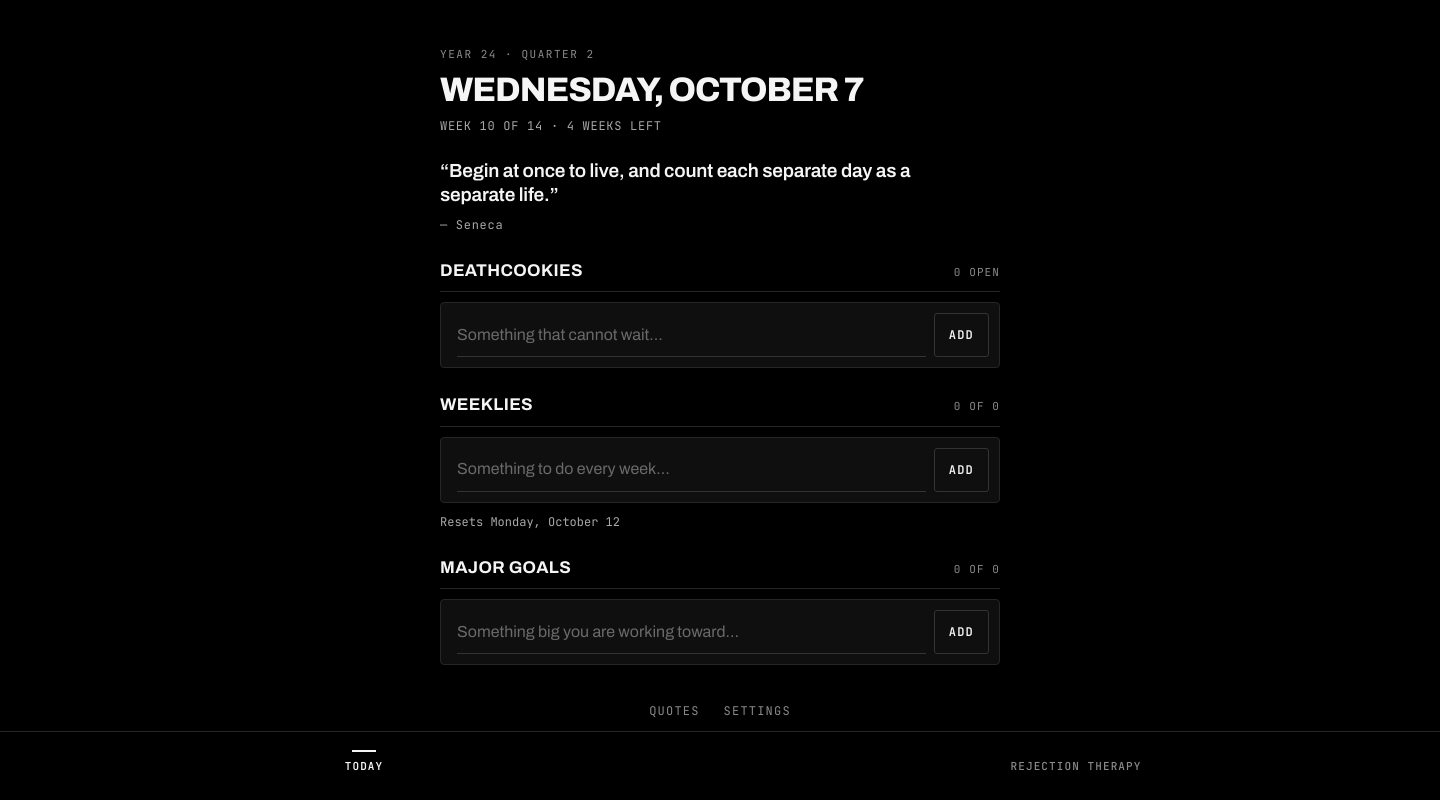
Test: rejection therapy › opens from the tab bar and fills in cards one at a time
Click the tab "Rejection Therapy": (1076, 762) [720,738,1432,786]
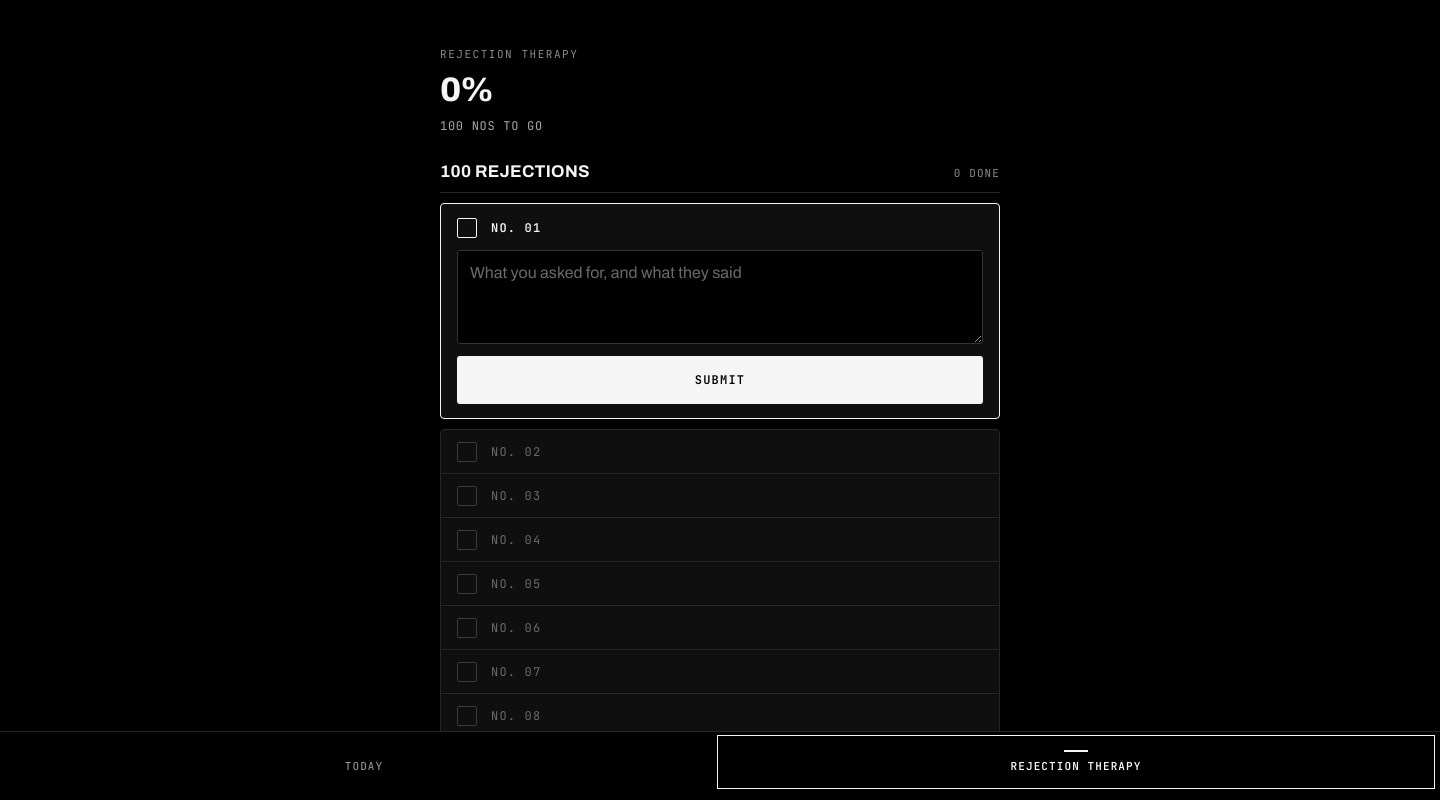
Expected: the heading "0%" is shown, [440,70,493,108]
Expected: the text "100 nos to go" is shown, [440,118,543,134]
Expected: the form named "Card No. 01" is shown, [440,203,1000,419]
Click the button "Submit": (720, 380) [457,356,983,404]
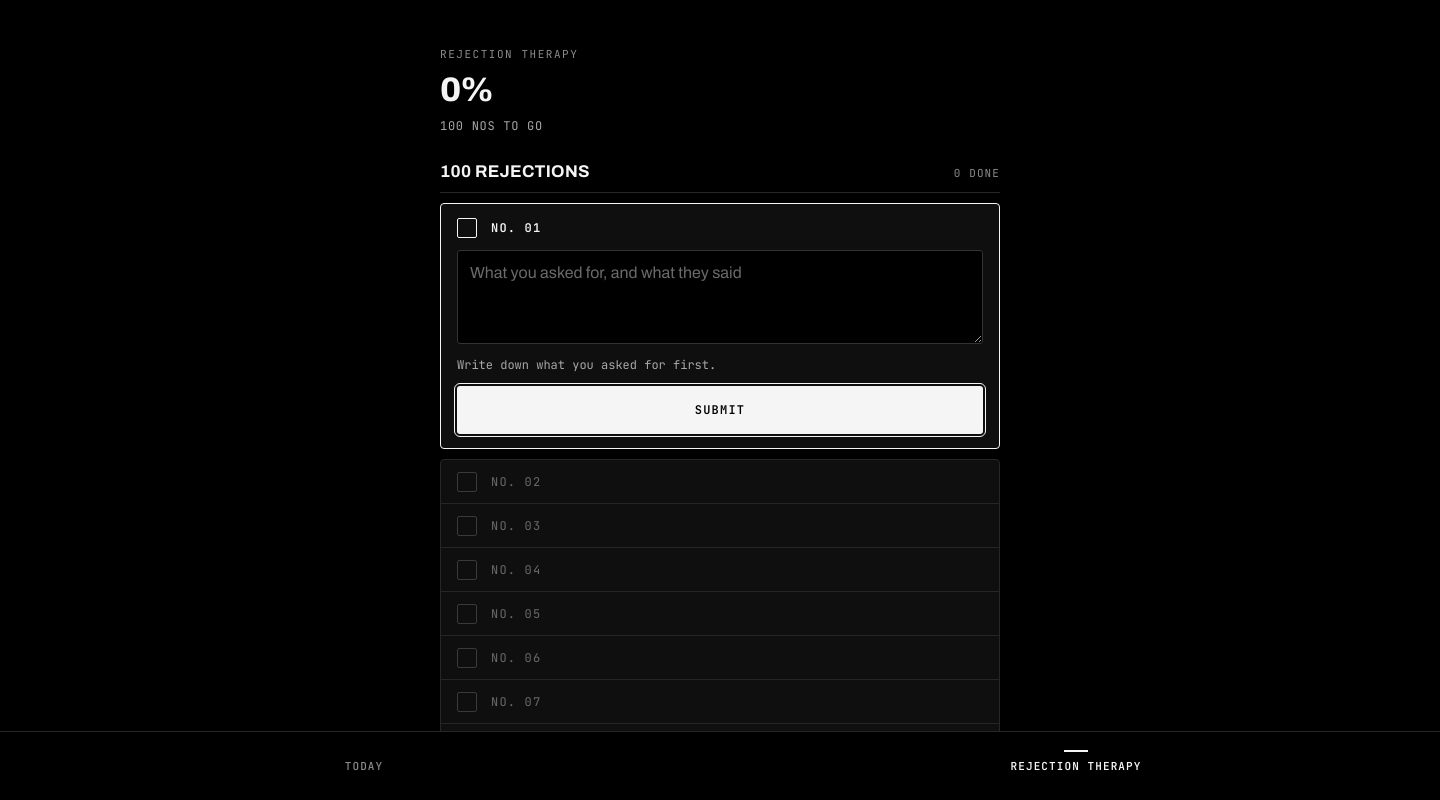
Expected: the message reads "Write down what you asked for first.", [457,357,716,373]
In the text box named "What happened for No. 01": (720, 297) [457,250,983,344], type "Asked for a free refill. A polite no."
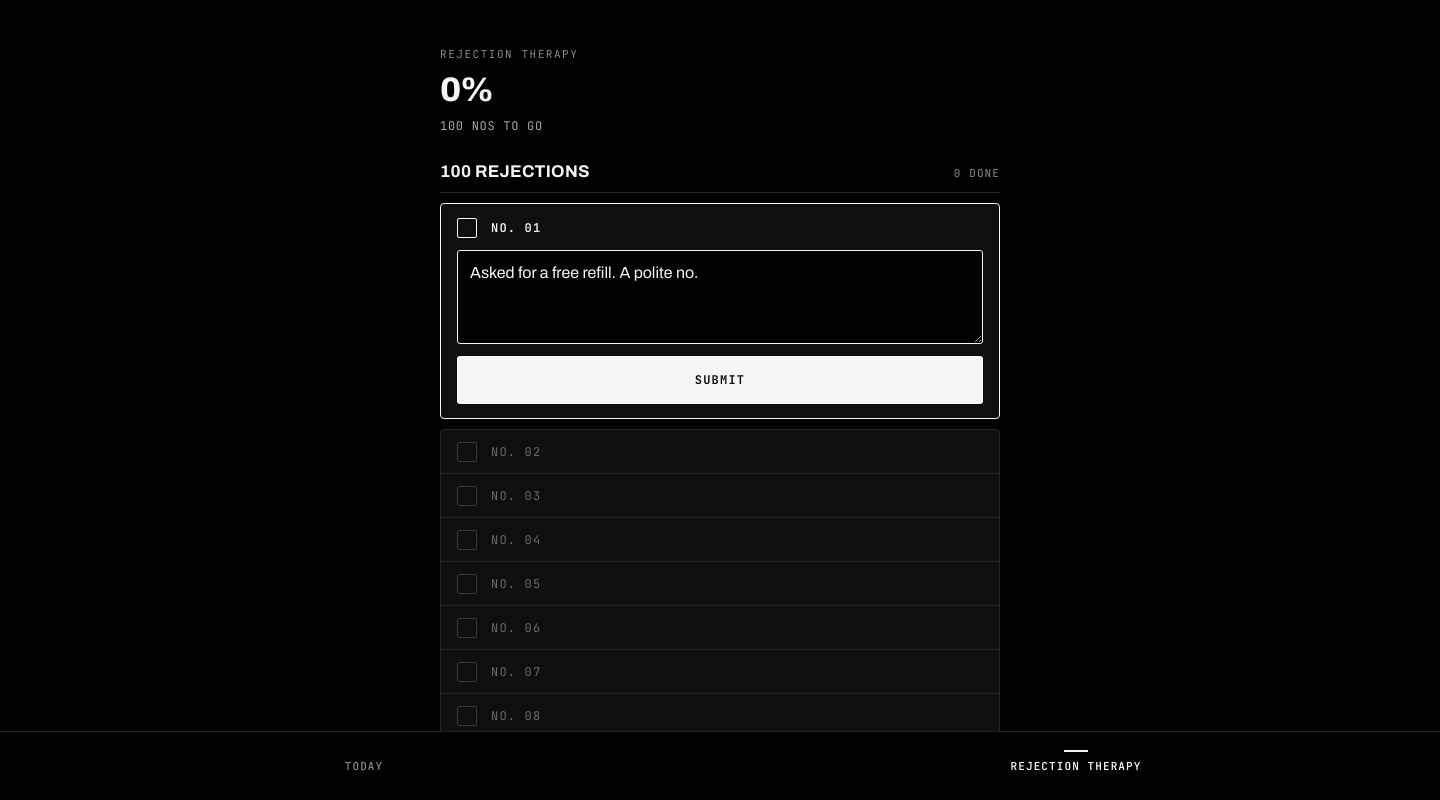
Click the button "Submit": (720, 380) [457,356,983,404]
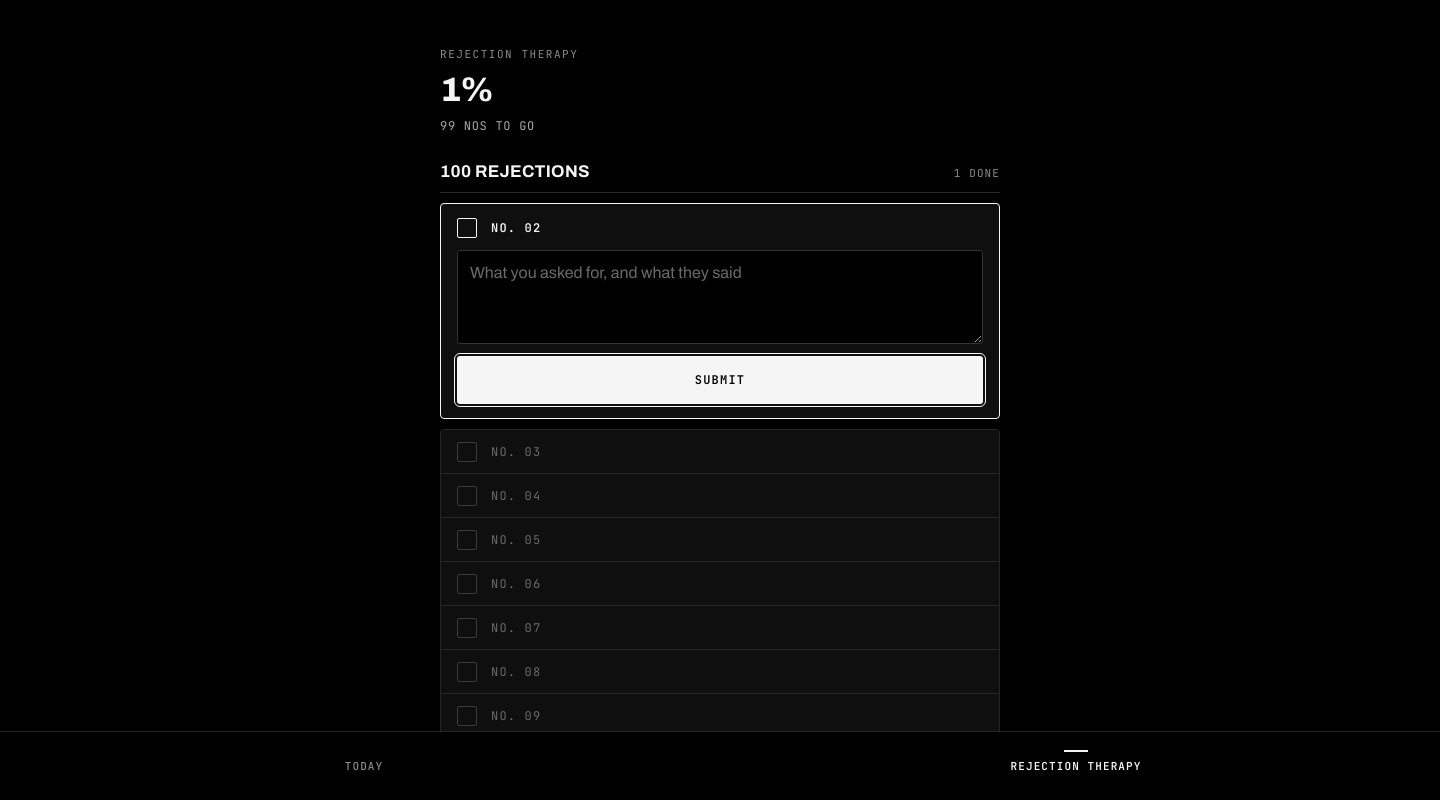
In the text box named "What happened for No. 02": (720, 297) [457,250,983,344], type "Asked to stock my zine."
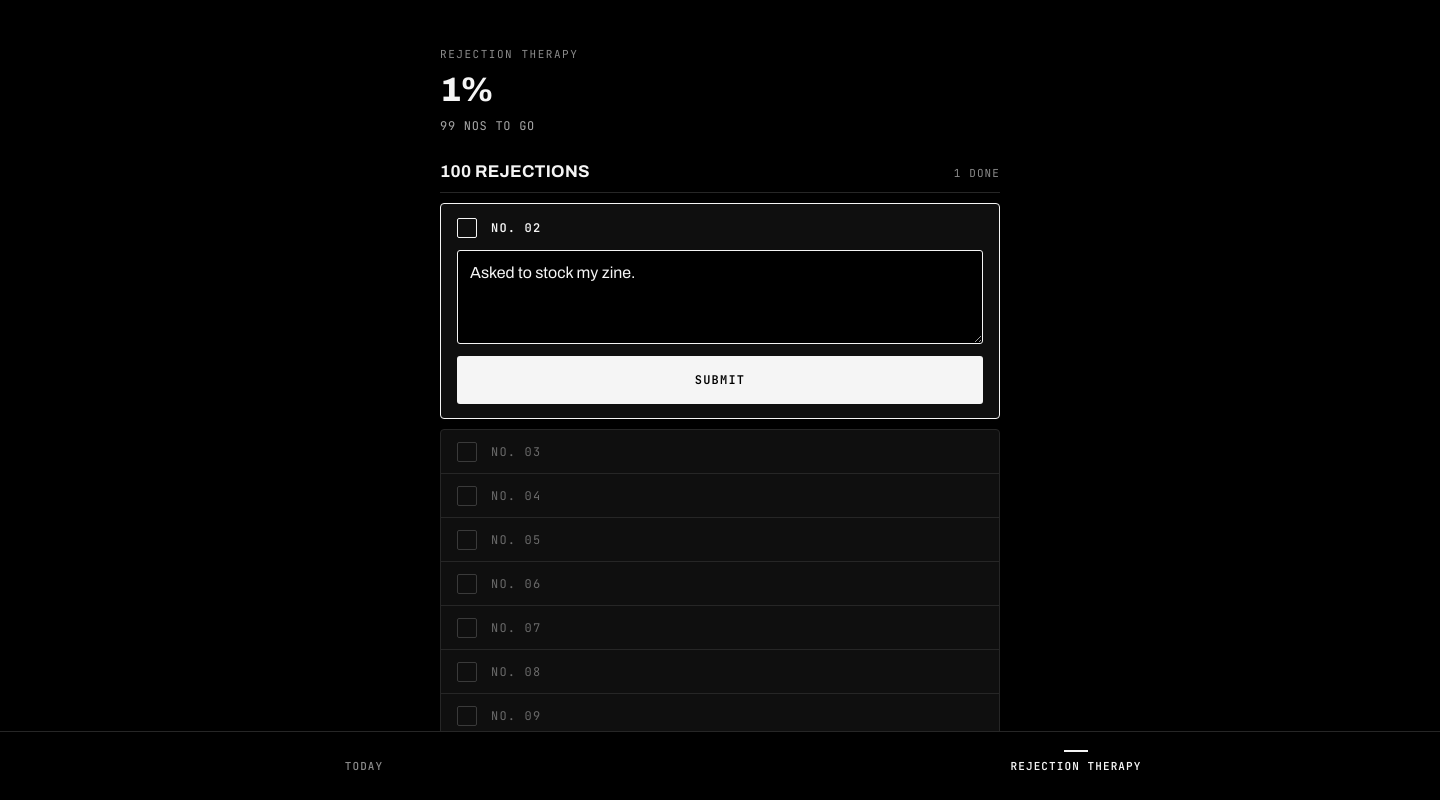
Click the button "Submit": (720, 380) [457,356,983,404]
(page scrolled)
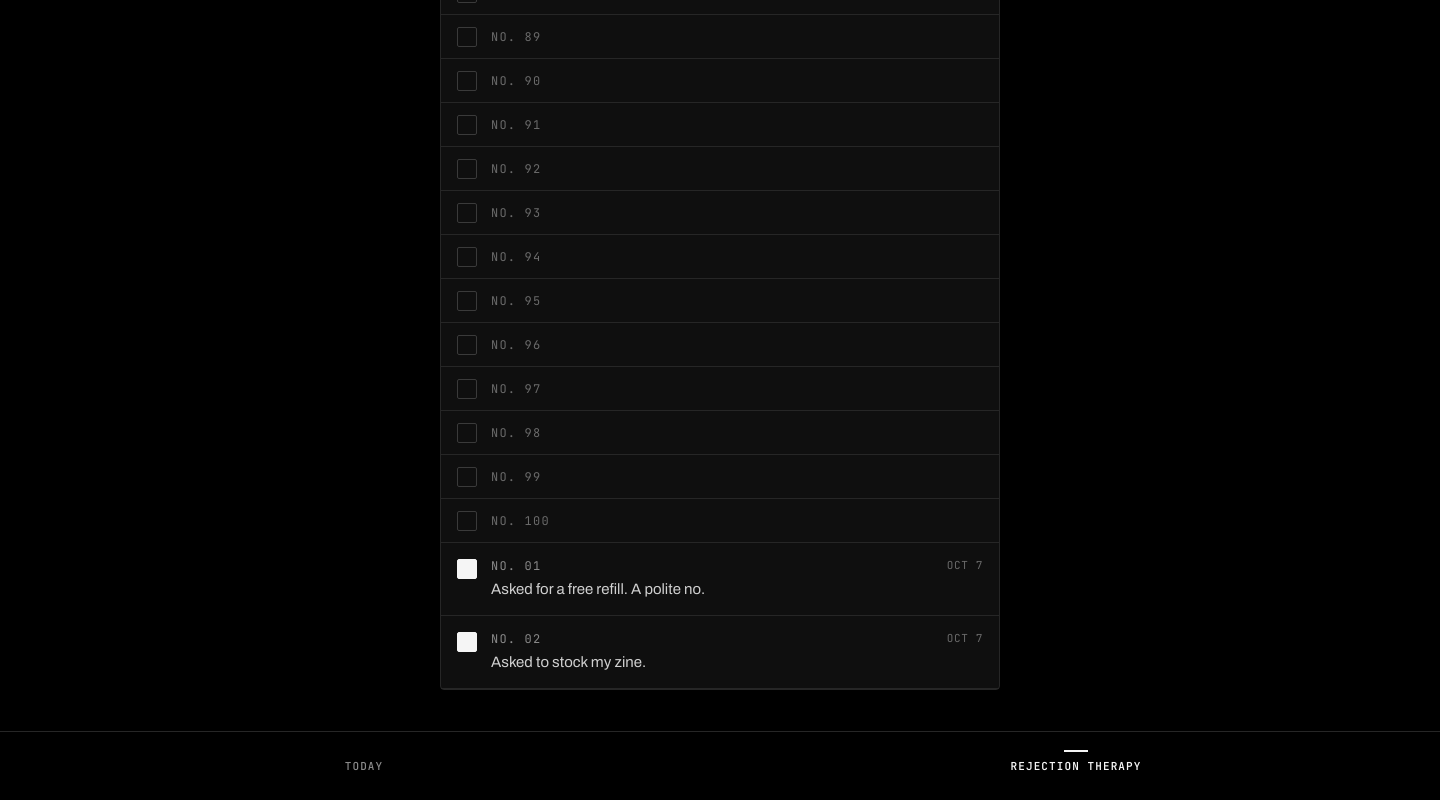
Expected: the text "Asked for a free refill. A polite no." is shown, [491,581,705,597]
Expected: the text "Oct 7" is shown 2 times, [947,557,983,575]; [947,630,983,648]
